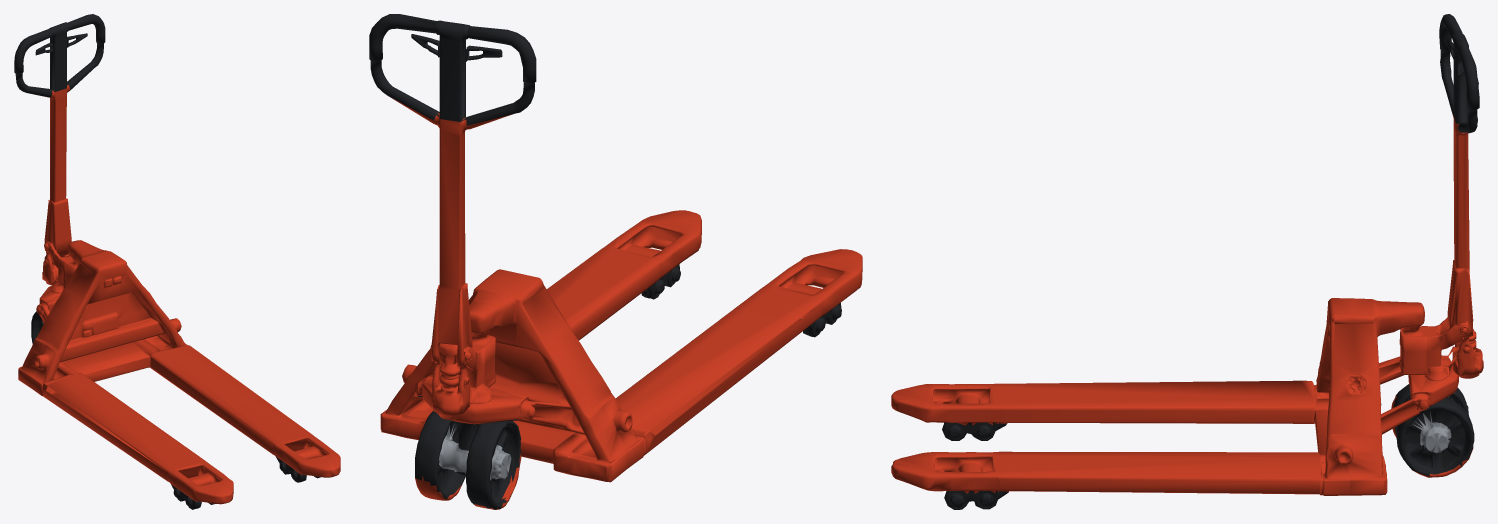
The model's file is palletjack.glb.
3 views of the same model, side by side, from view 1: azimuth 30°, elevation 25°; view 2: azimuth 150°, elevation 25°; view 3: azimuth 270°, elevation 25° (orthographic). The views are drawn at different scales.
Parts seen in each view (by area): view 1: frame, handle, base; view 2: frame, base, handle; view 3: frame, base, handle.
Part boxes in pixels (x1,y1,x2,y2): frame: [18, 247, 340, 504]; handle: [14, 14, 105, 239]; base: [31, 205, 321, 509]; frame: [380, 210, 862, 482]; base: [382, 264, 841, 509]; handle: [369, 14, 536, 344]; frame: [891, 298, 1407, 495]; base: [942, 268, 1483, 509]; handle: [1439, 14, 1479, 328].
Bounding box in the file's own units: 0.6058 × 1.23 × 1.55.
